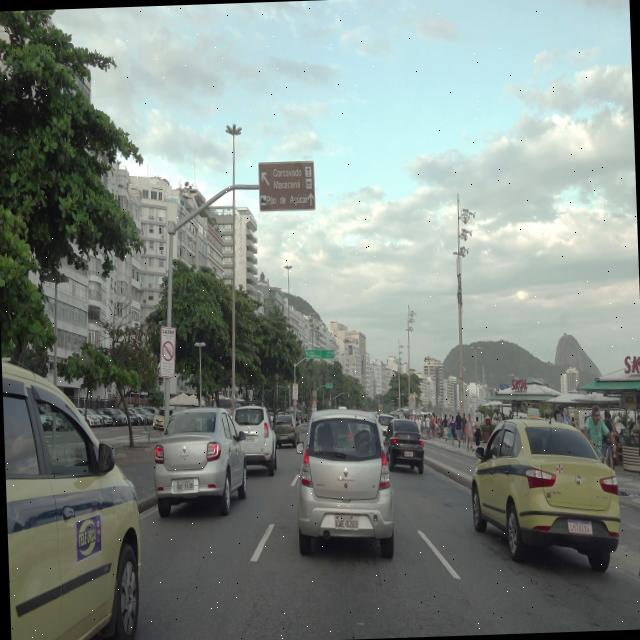License-plate: (566, 519, 594, 538), (332, 517, 362, 533), (172, 476, 195, 494)
